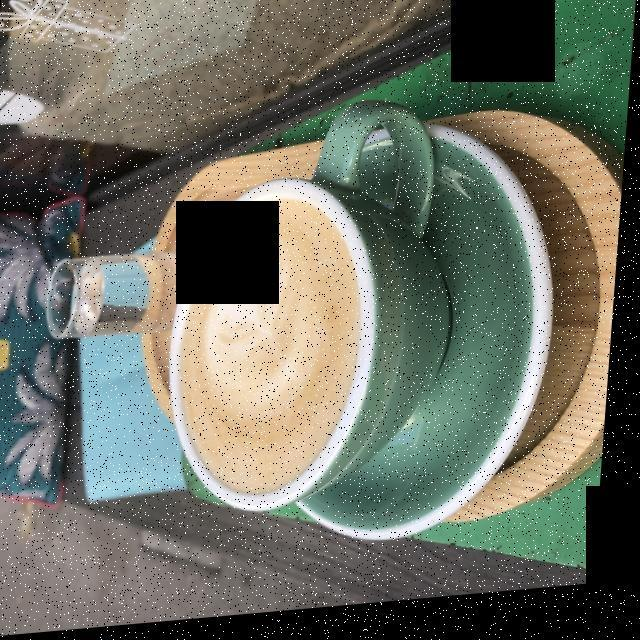coffee: (187, 206, 361, 495)
